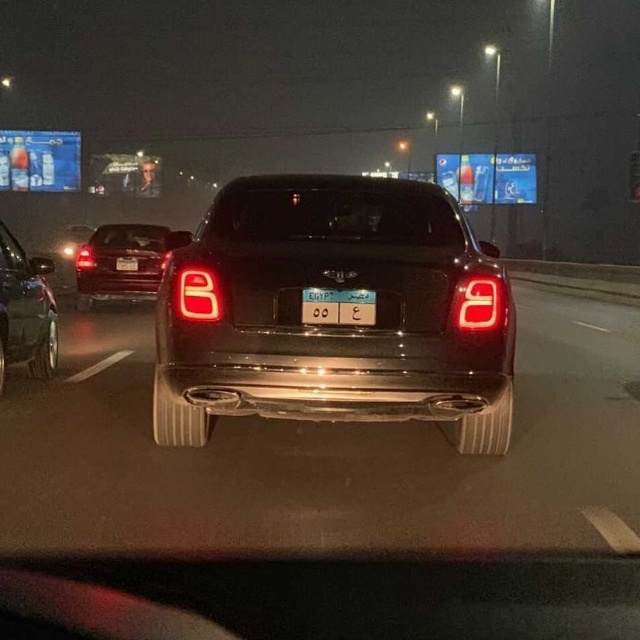License Plate: (300, 286, 378, 327)
